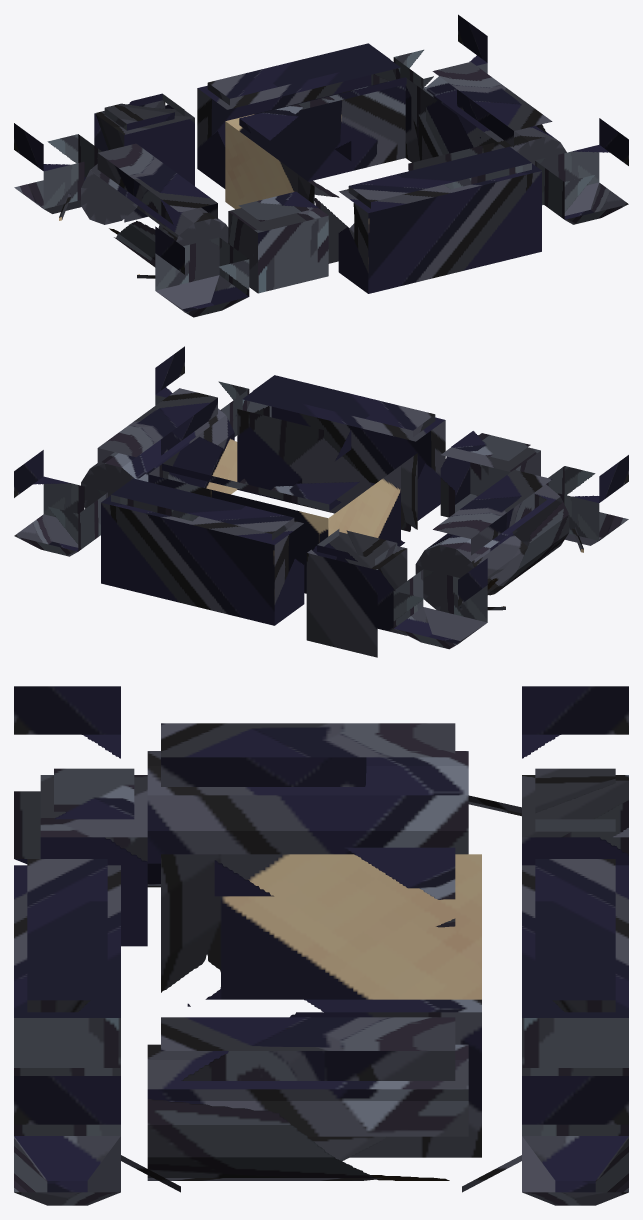
File: ss8_transformer.obj
3 views of the same model, one above another, from view 1: azimuth 30°, elevation 25°; view 2: azimuth 150°, elevation 25°; view 3: azimuth 270°, elevation 25° (orthographic). The views are drawn at different scales.
Parts seen in each view (by area): view 1: cube_selection_selection_selection; view 2: cube_selection_selection_selection; view 3: cube_selection_selection_selection.
Part boxes in pixels (x1,y1,x2,y2): cube_selection_selection_selection: [14, 14, 628, 317]; cube_selection_selection_selection: [14, 346, 628, 657]; cube_selection_selection_selection: [14, 686, 628, 1205].
Size of the model in its own units: 4.34 by 1.41 by 2.88.
